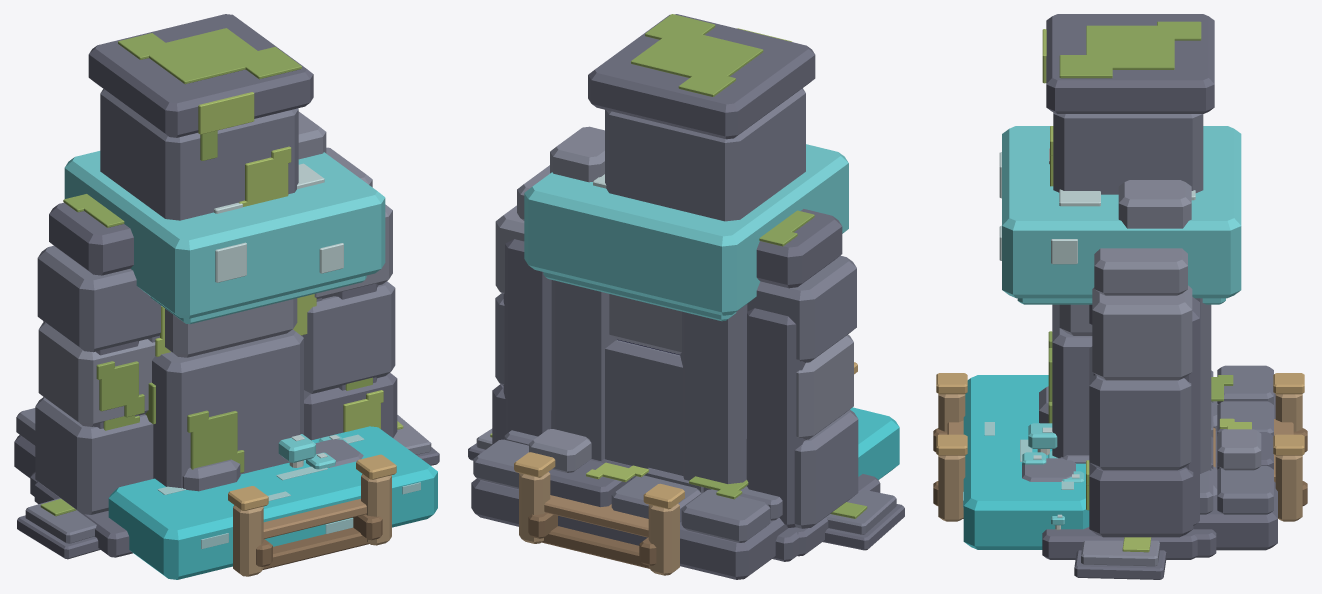
File: bogheart_kit_roblox.glb
The picture shows the model from 3 angles, left to right: view 1: azimuth 30°, elevation 25°; view 2: azimuth 150°, elevation 25°; view 3: azimuth 270°, elevation 25°; orthographic projection. The views are drawn at different scales.
Parts seen in each view (by area): view 1: CornerPillar, CaveGate, GiantMushroom_Glow, FloorWaterTile_Glow, Bridge, RockWall, SteppingStones, FloorWaterTile, GiantMushroom; view 2: CornerPillar, RockWall, GiantMushroom_Glow, CaveGate, FloorWaterTile, Bridge, SteppingStones, FloorWaterTile_Glow; view 3: CornerPillar, CaveGate, GiantMushroom_Glow, FloorWaterTile_Glow, FloorWaterTile, Bridge, RockWall, SteppingStones, GiantMushroom.
Part boxes in pixels (box(x1,y1,x2,y2)): CornerPillar: box(88, 14, 313, 488); CaveGate: box(34, 147, 397, 557); GiantMushroom_Glow: box(64, 151, 385, 469); FloorWaterTile_Glow: box(108, 426, 437, 579); Bridge: box(228, 454, 396, 576); RockWall: box(30, 111, 378, 518); SteppingStones: box(17, 415, 439, 559); FloorWaterTile: box(14, 408, 108, 510); GiantMushroom: box(315, 439, 363, 467); CornerPillar: box(588, 14, 815, 475); RockWall: box(503, 126, 805, 561); GiantMushroom_Glow: box(524, 144, 848, 321); CaveGate: box(492, 165, 880, 556); FloorWaterTile: box(471, 429, 788, 579); Bridge: box(514, 362, 857, 575); SteppingStones: box(468, 428, 904, 550); FloorWaterTile_Glow: box(850, 407, 899, 479); CornerPillar: box(1042, 14, 1214, 458); CaveGate: box(1042, 248, 1197, 559); GiantMushroom_Glow: box(999, 126, 1241, 465); FloorWaterTile_Glow: box(963, 375, 1089, 549); FloorWaterTile: box(1193, 365, 1277, 550); Bridge: box(933, 373, 1307, 521); RockWall: box(1039, 180, 1216, 557); SteppingStones: box(1074, 537, 1166, 579); GiantMushroom: box(1022, 401, 1218, 495).
Bounding box in the file's own units: 4.27 × 4.59 × 3.6.
